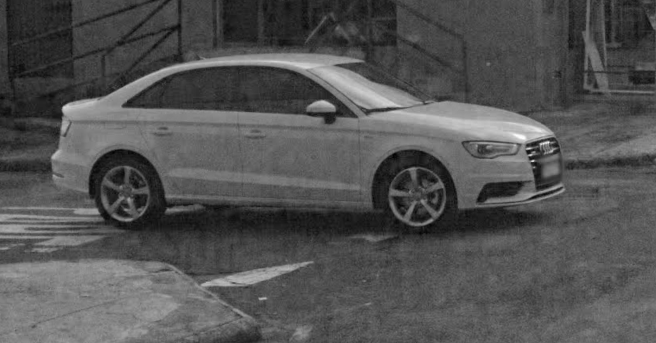car: (46, 44, 574, 244)
